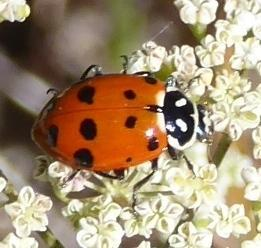ladybug: (30, 54, 216, 216)
